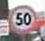limite 50: (8, 3, 36, 34)
